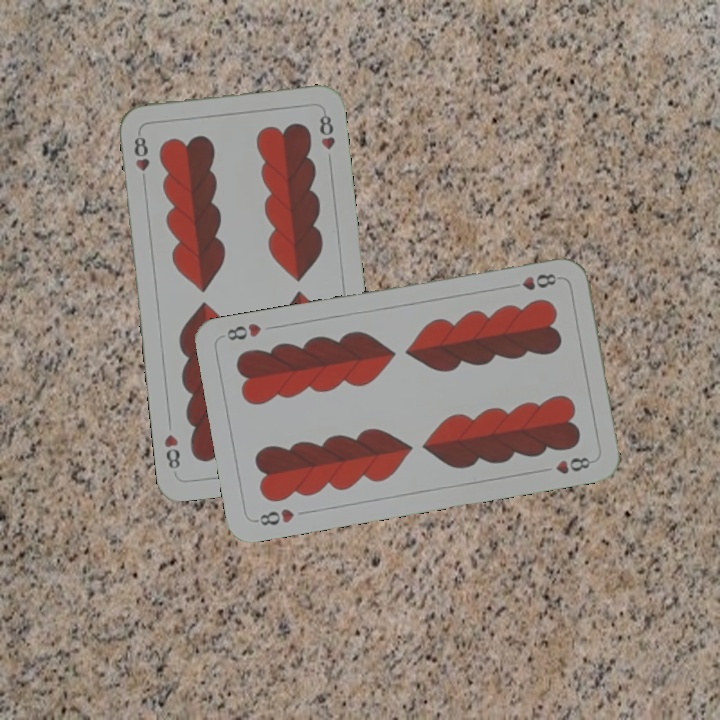H8: (251, 504, 297, 528), (518, 269, 559, 293), (129, 132, 152, 174)
